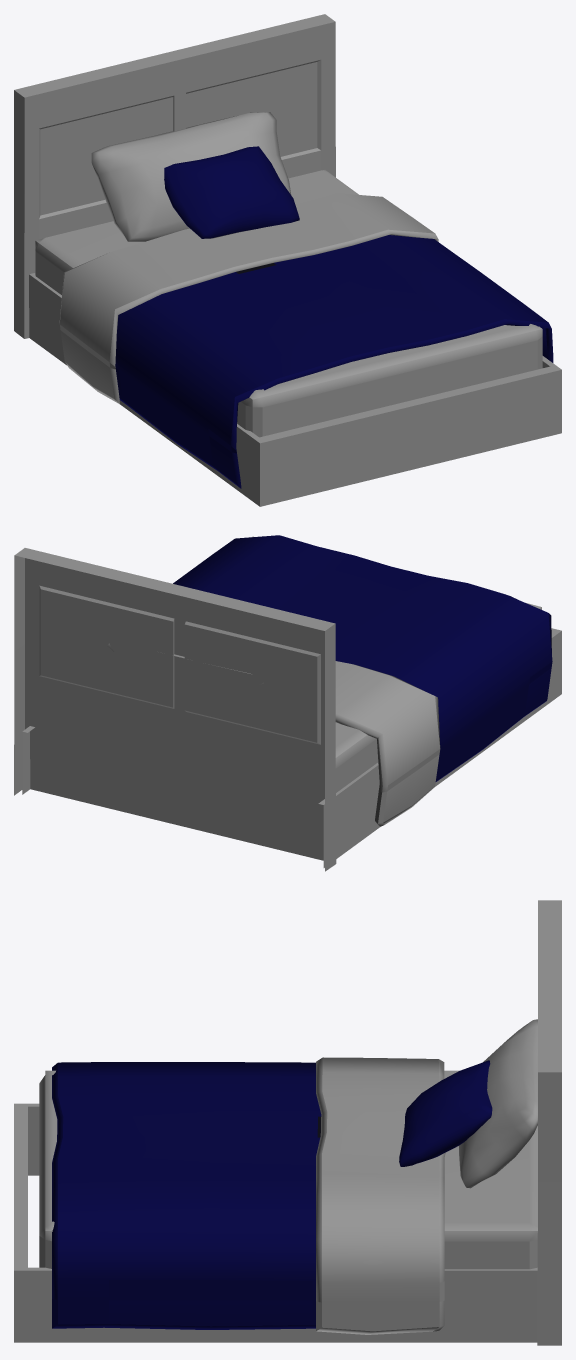
File: bed.FBX
The picture shows the model from 3 angles, top to bottom: view 1: azimuth 30°, elevation 25°; view 2: azimuth 150°, elevation 25°; view 3: azimuth 270°, elevation 25°; orthographic projection. The views are drawn at different scales.
Visible parts, largest first — view 1: polySurface28; view 2: polySurface28; view 3: polySurface28.
Part boxes in pixels (x1,y1,x2,y2): polySurface28: [14, 14, 561, 506]; polySurface28: [14, 535, 561, 871]; polySurface28: [14, 900, 561, 1345].
Size of the model in its own units: 13.03 by 9.06 by 16.46.
